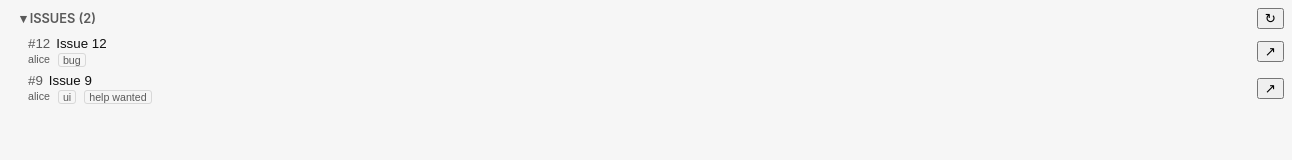
Scenario: IssuesPanel collapse › collapsing hides the list, sets aria-expanded false and stores the flag
Click the button "Issues (2)". click: click(58, 18)
box: [20,9,96,28]
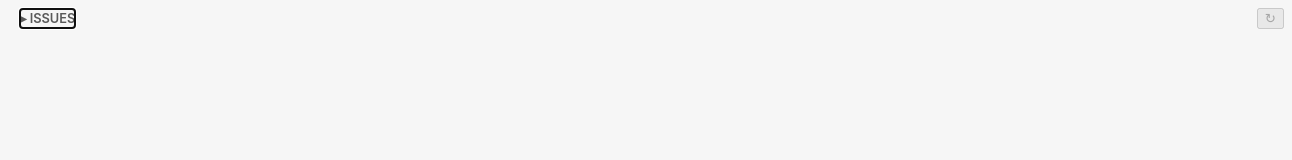
Now the button "Issues" is collapsed, box [20,9,75,28]
Now no list items are shown
